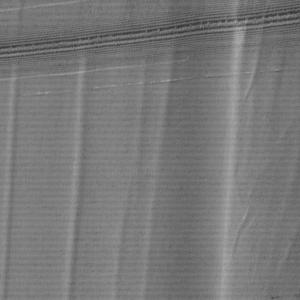Wrinkle: (213, 1, 300, 300), (107, 36, 189, 300), (1, 1, 38, 300), (62, 51, 98, 300)
